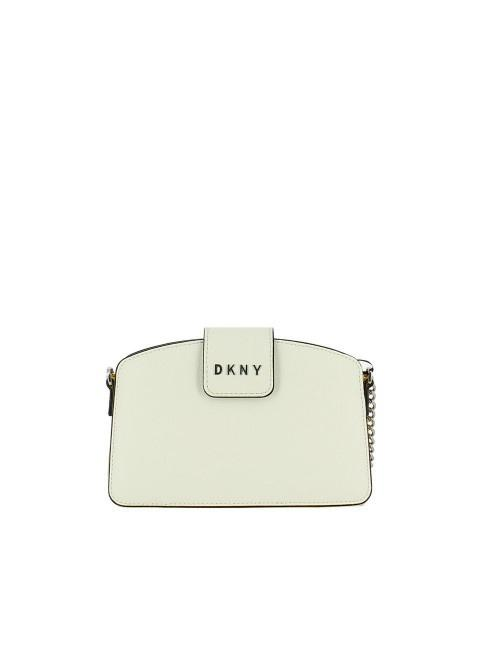DKNY: (215, 364, 261, 375)
